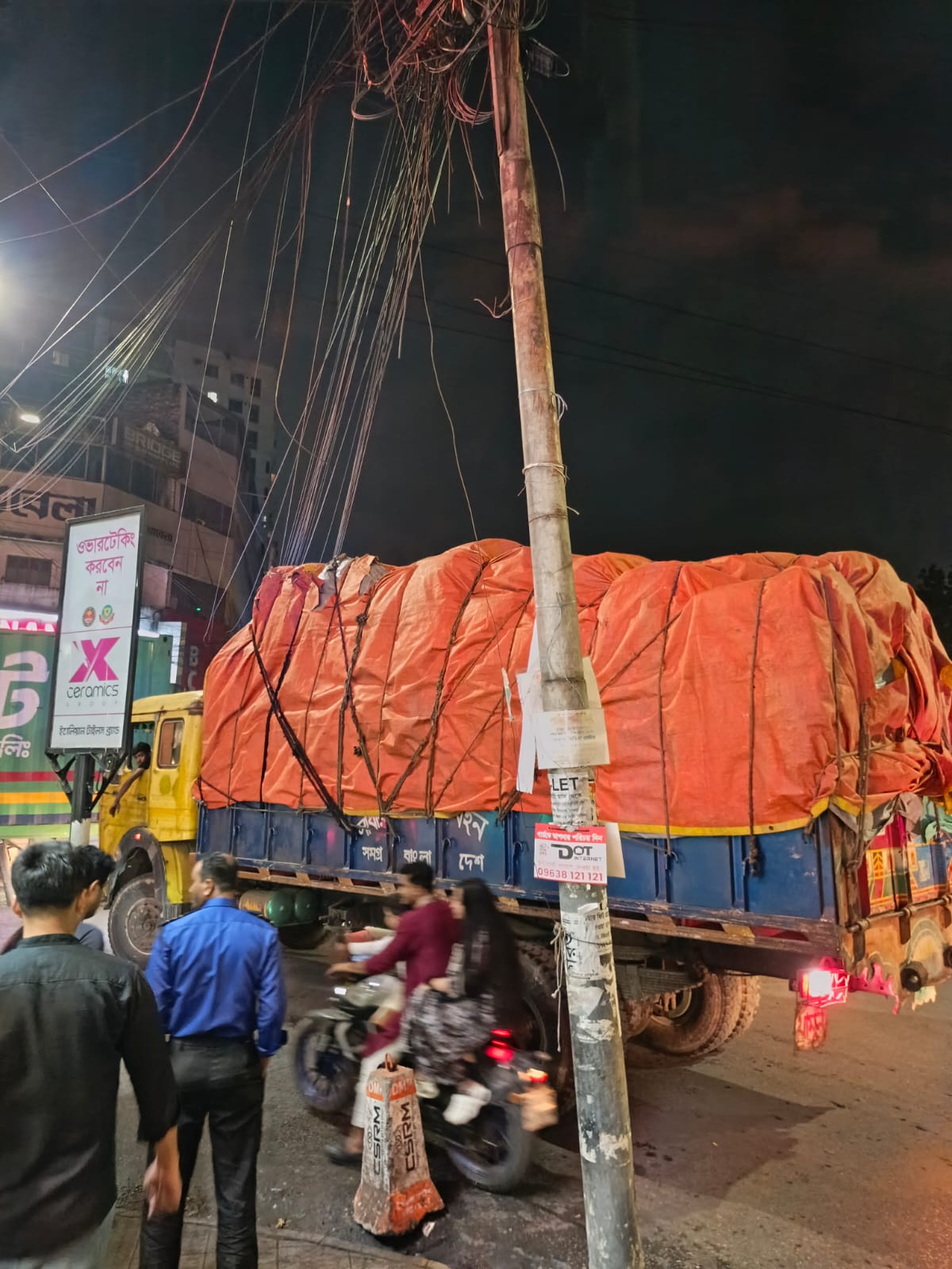Bikes: (278, 826, 587, 1205)
Truck: (87, 521, 947, 1102)
